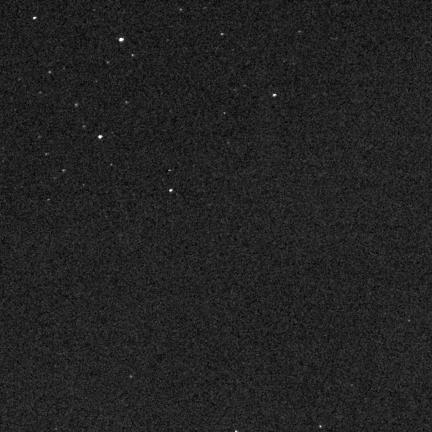blob: (45, 153, 50, 157), (119, 38, 124, 42), (106, 61, 110, 65), (98, 135, 102, 139), (62, 169, 66, 173), (169, 189, 173, 192), (132, 54, 135, 58), (273, 94, 277, 97), (75, 103, 78, 107), (221, 33, 225, 36), (49, 71, 52, 74), (33, 17, 36, 20)
